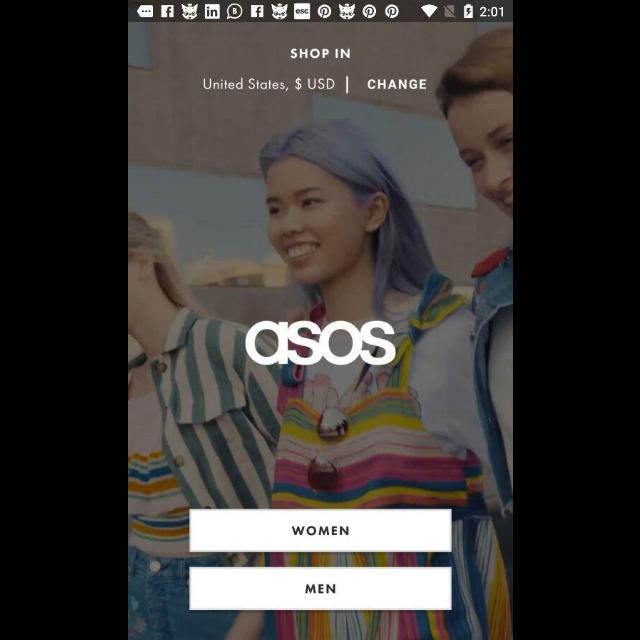backgroundimage: (128, 22, 512, 640)
image: (244, 320, 396, 366)
text: (202, 78, 334, 92), (290, 49, 350, 60), (366, 80, 426, 90)
textbutton: (189, 566, 451, 610), (189, 509, 451, 553)
uppertaskbar: (128, 1, 512, 23)
